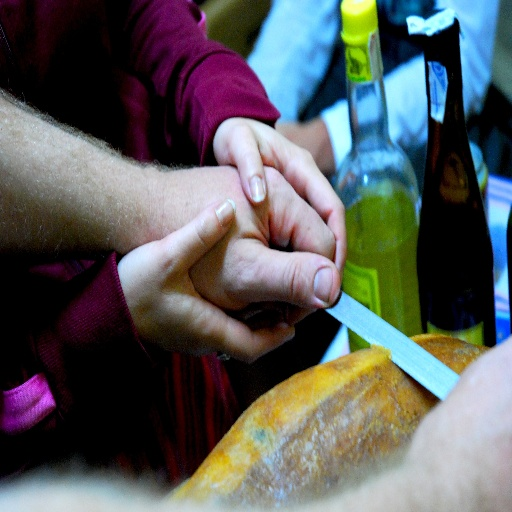hand: (156, 165, 342, 334), (116, 195, 294, 364), (210, 118, 349, 274), (274, 119, 324, 175)
